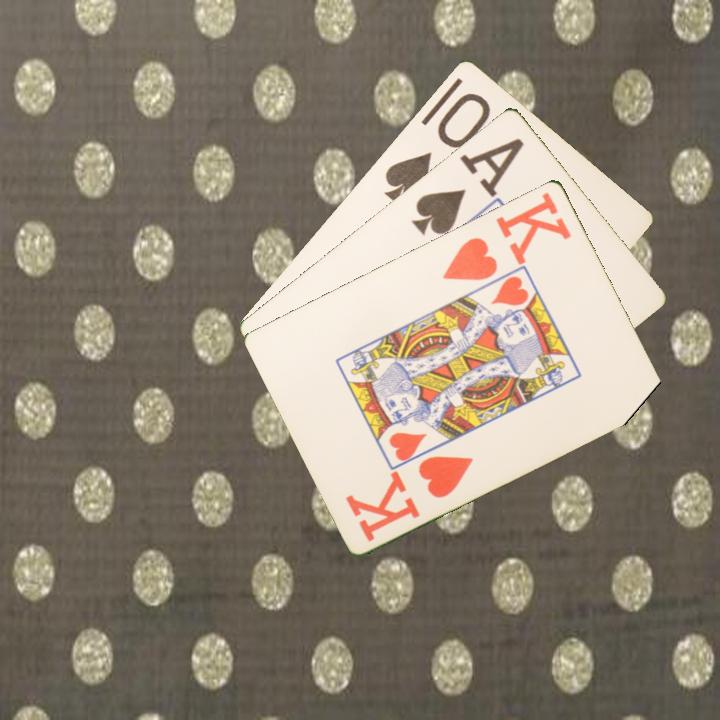10s: (380, 88, 494, 208)
As: (407, 144, 515, 238)
Kh: (439, 187, 575, 284), (342, 451, 477, 544)
